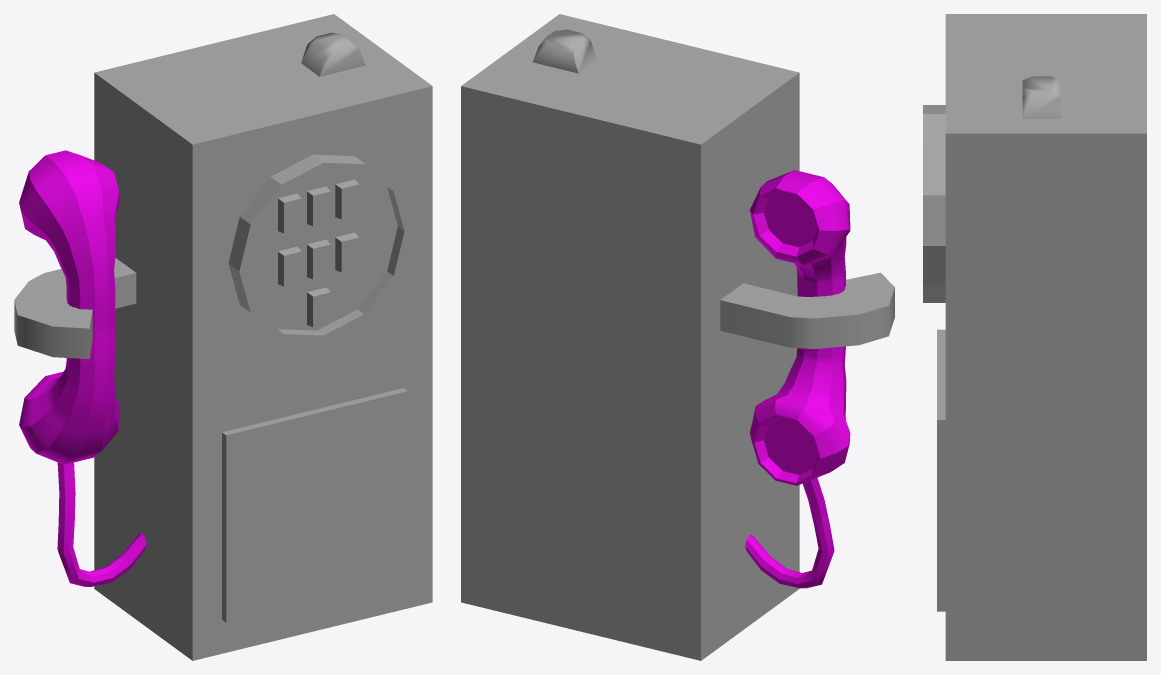
Rendered from Telefone.fbx.
3 renders of one model, left to right at view 1: azimuth 30°, elevation 25°; view 2: azimuth 150°, elevation 25°; view 3: azimuth 270°, elevation 25°, orthographic. The views are drawn at different scales.
Parts seen in each view (by area): view 1: Telefone1; view 2: Telefone1; view 3: Telefone1.
Boxes of the visible parts, x1,y1,x2,y2 form: Telefone1: (14,14,432,660); Telefone1: (461,14,894,660); Telefone1: (923,14,1146,660).
Bounding box in the file's own units: 0.7952 × 1.1 × 0.4053.
